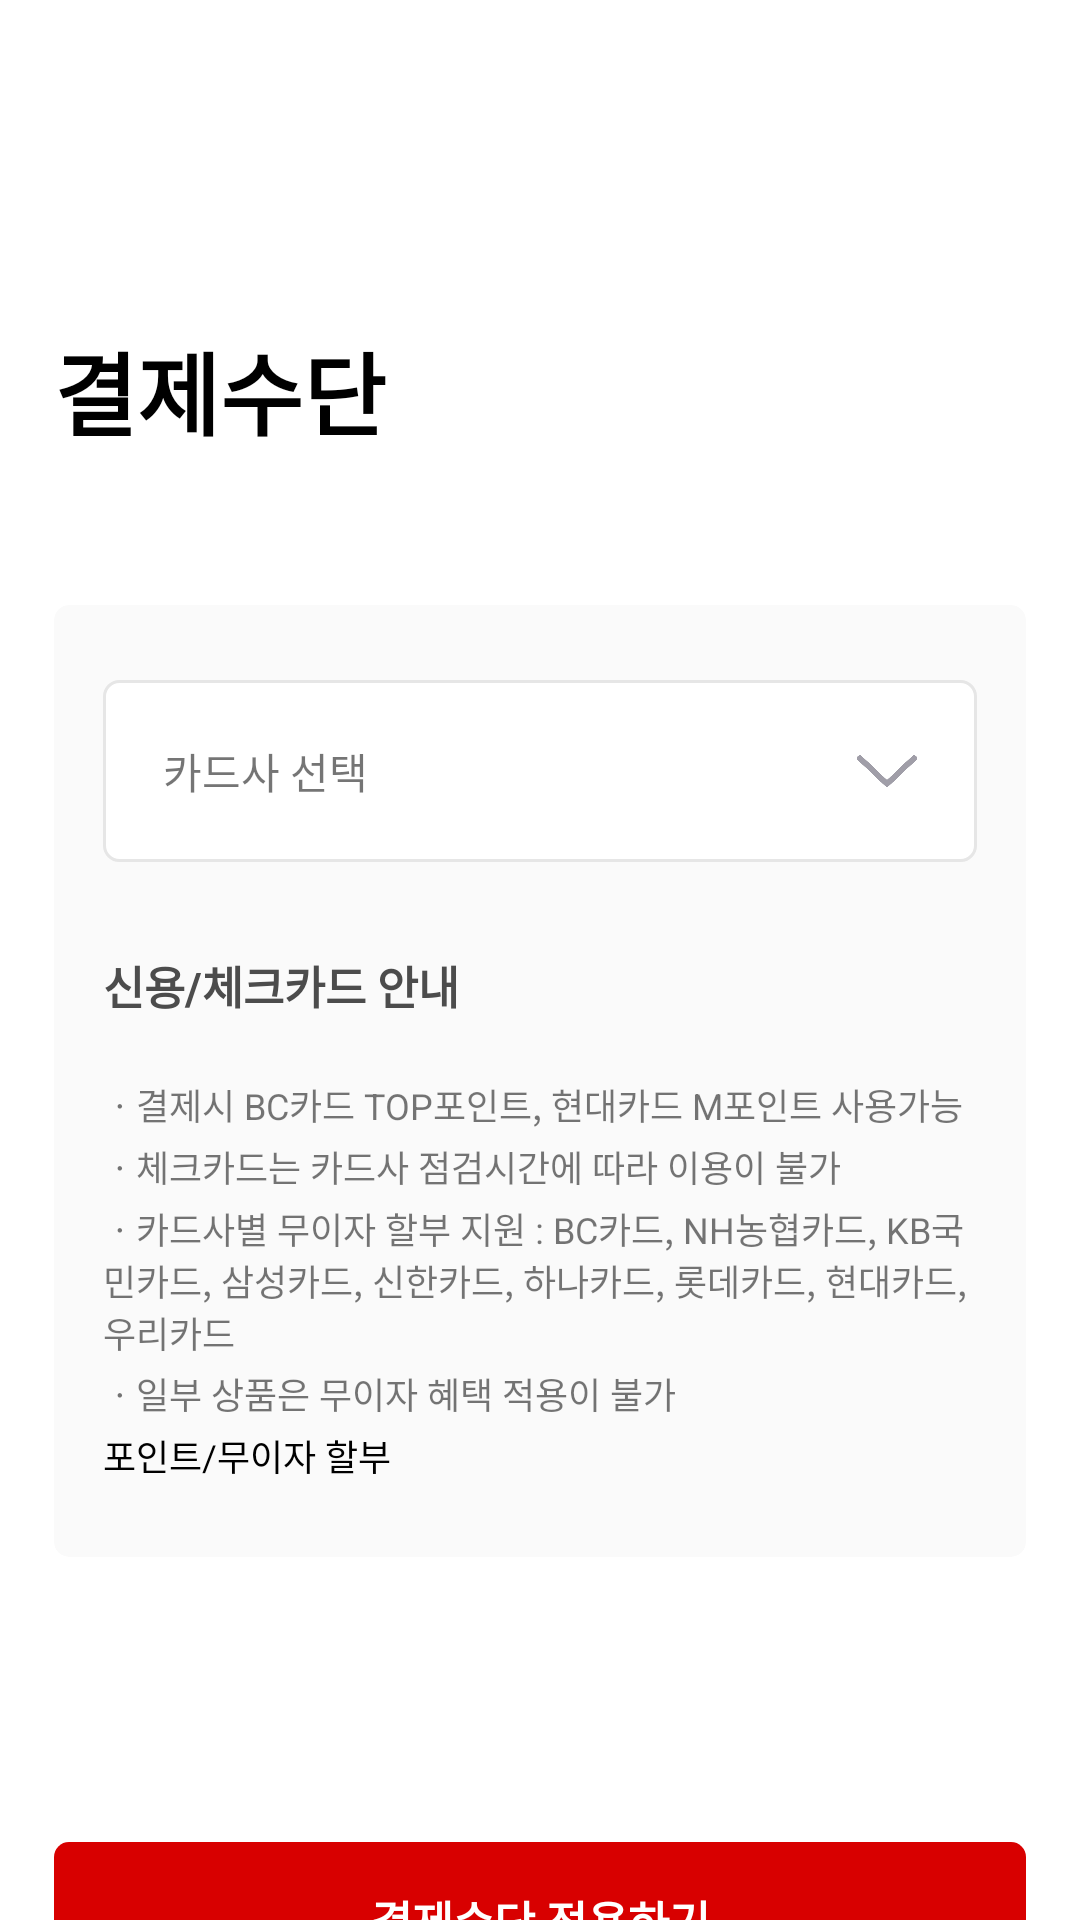

Where icons sit on this 1080 × 1920 app screen, as (x1, y1, x2, y2):
login telecom down: (857, 755, 917, 787)
